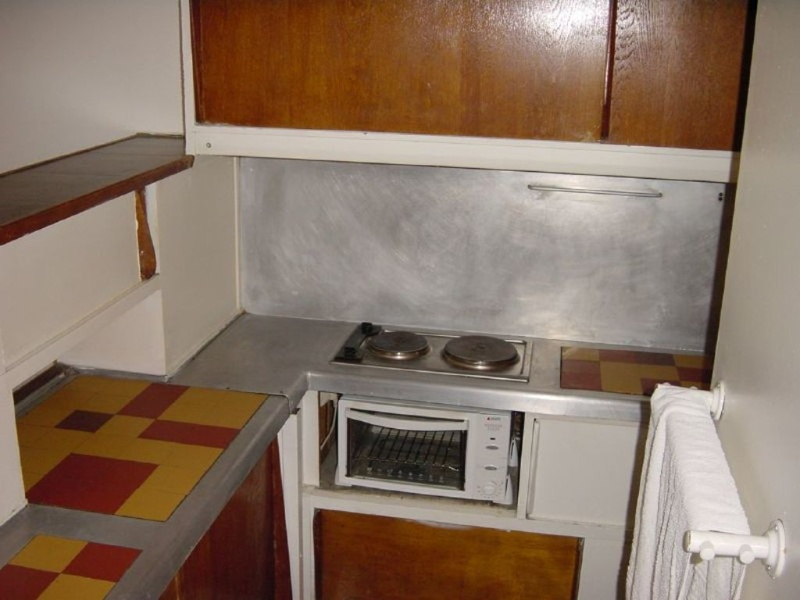oven: (324, 387, 534, 521)
